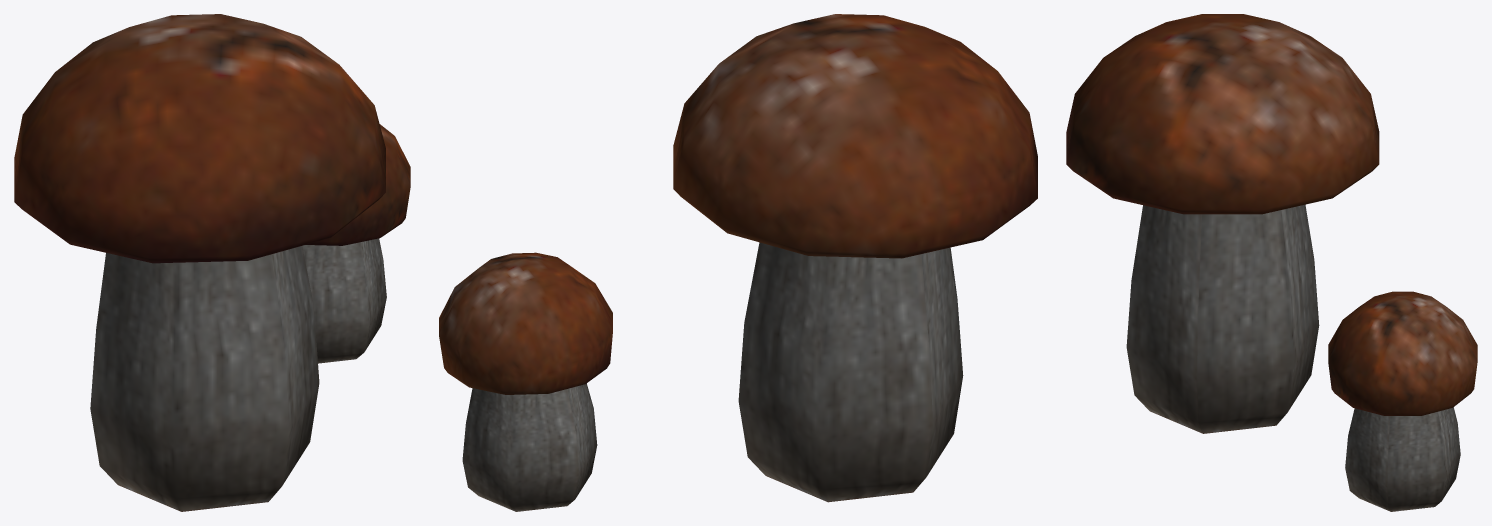
File: mushroom_n_1_2.fbx
3 views of the same model, side by side, from view 1: azimuth 30°, elevation 25°; view 2: azimuth 150°, elevation 25°; view 3: azimuth 270°, elevation 25° (orthographic). The views are drawn at different scales.
Parts seen in each view (by area): view 1: mushroom_n_1_2; view 2: mushroom_n_1_2; view 3: mushroom_n_1_2.
Boxes of the visible parts, x1,y1,x2,y2 form: mushroom_n_1_2: (14, 14, 410, 511); mushroom_n_1_2: (439, 14, 1037, 511); mushroom_n_1_2: (1066, 14, 1477, 511).
Size of the model in its own units: 0.1455 by 0.1319 by 0.1306.
